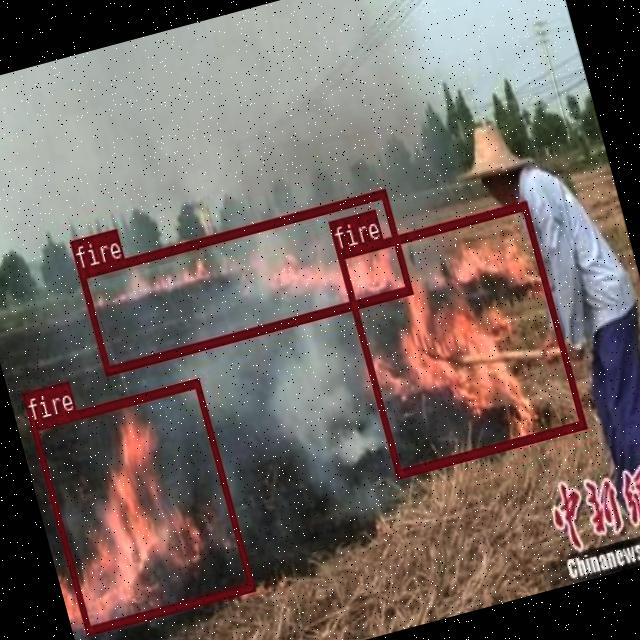fire: (336, 199, 586, 476), (76, 187, 412, 375), (28, 376, 254, 633)
